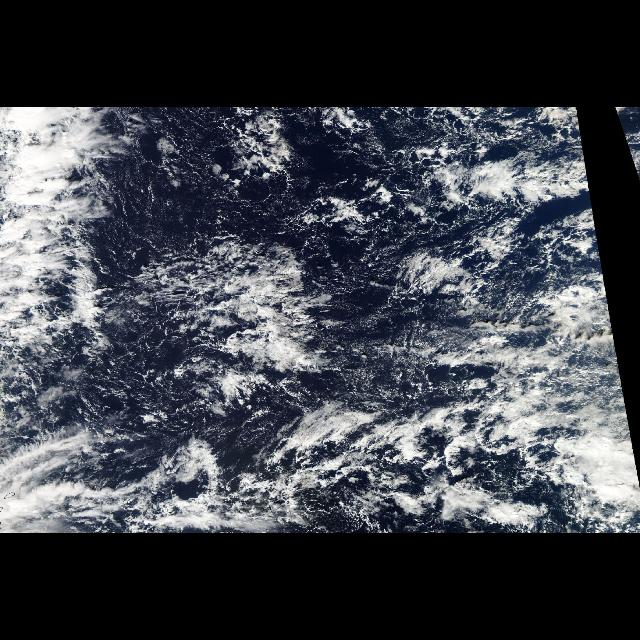Gravel: (56, 319, 250, 459)
